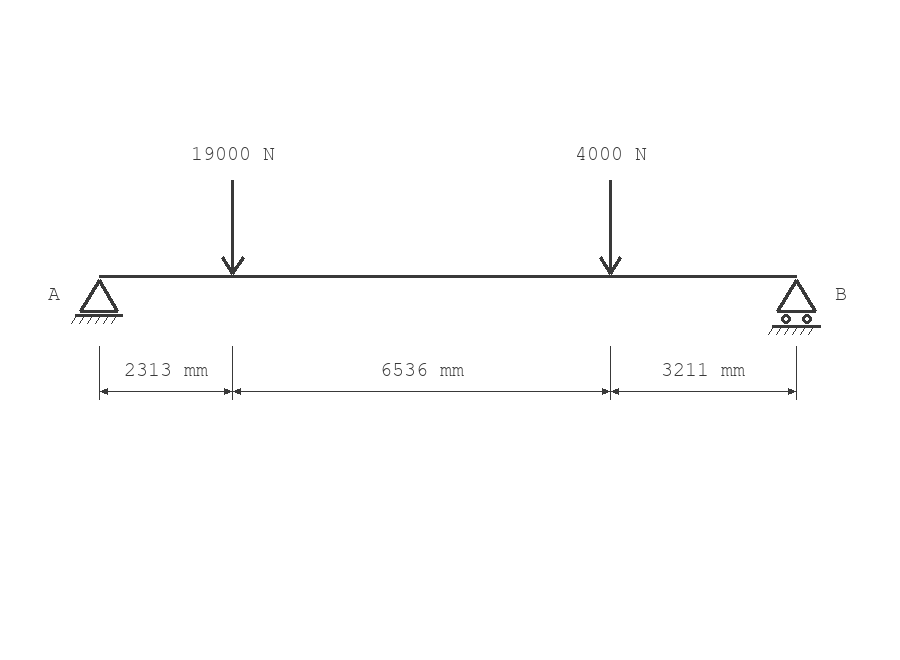pin_support: (71, 279, 123, 324)
point_load: (221, 180, 245, 275), (599, 180, 622, 275)
roller_support: (768, 279, 821, 335)
